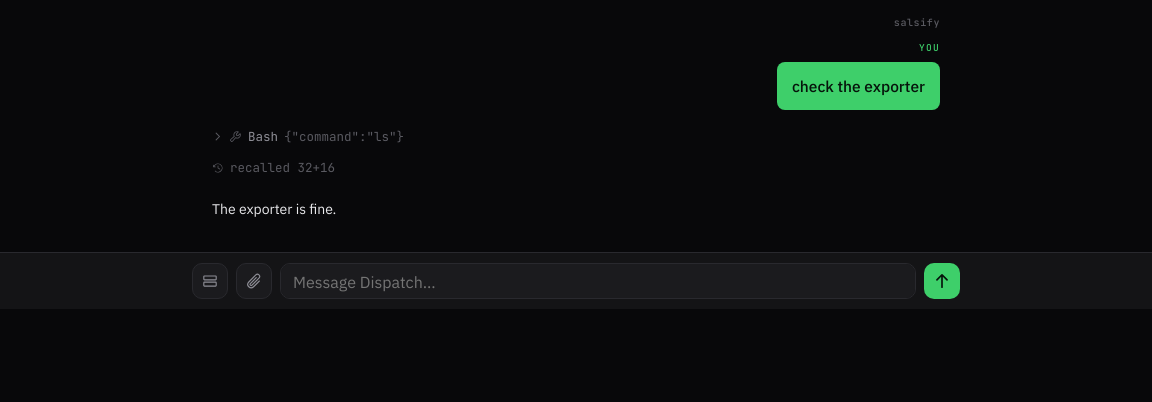
EndlessColumn › renders the user bubble with its project, the reply, one tool line, and the recalled line
This screenshot has width=1152, height=402.
Check: the text "check the exporter" is shown, box [777, 62, 940, 110]
Check: the text "salsify" is shown, box [894, 16, 940, 29]
Step 1. Click the button "Bash {\"command\":\"ls\"}" → (263, 137), box [212, 128, 940, 145]
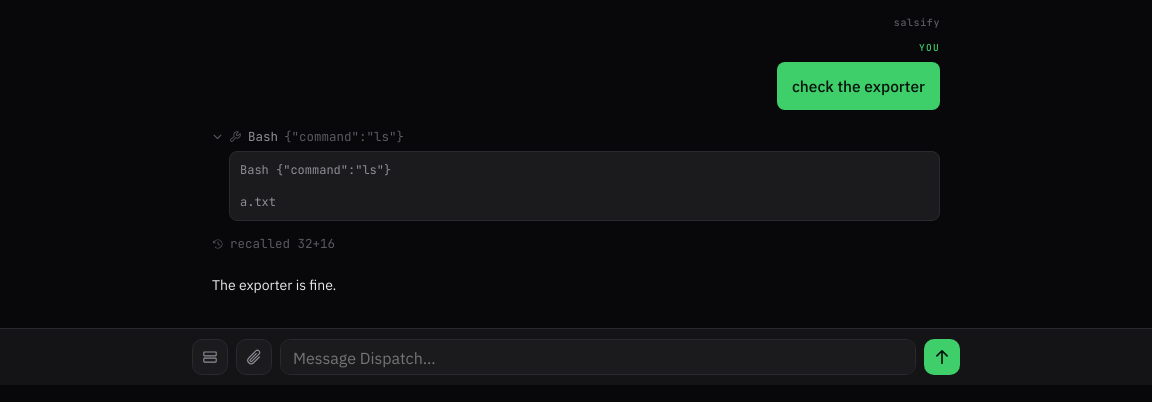
Check: the text "Bash {\"command\":\"ls\"} a.txt" is shown, box [229, 151, 940, 221]
